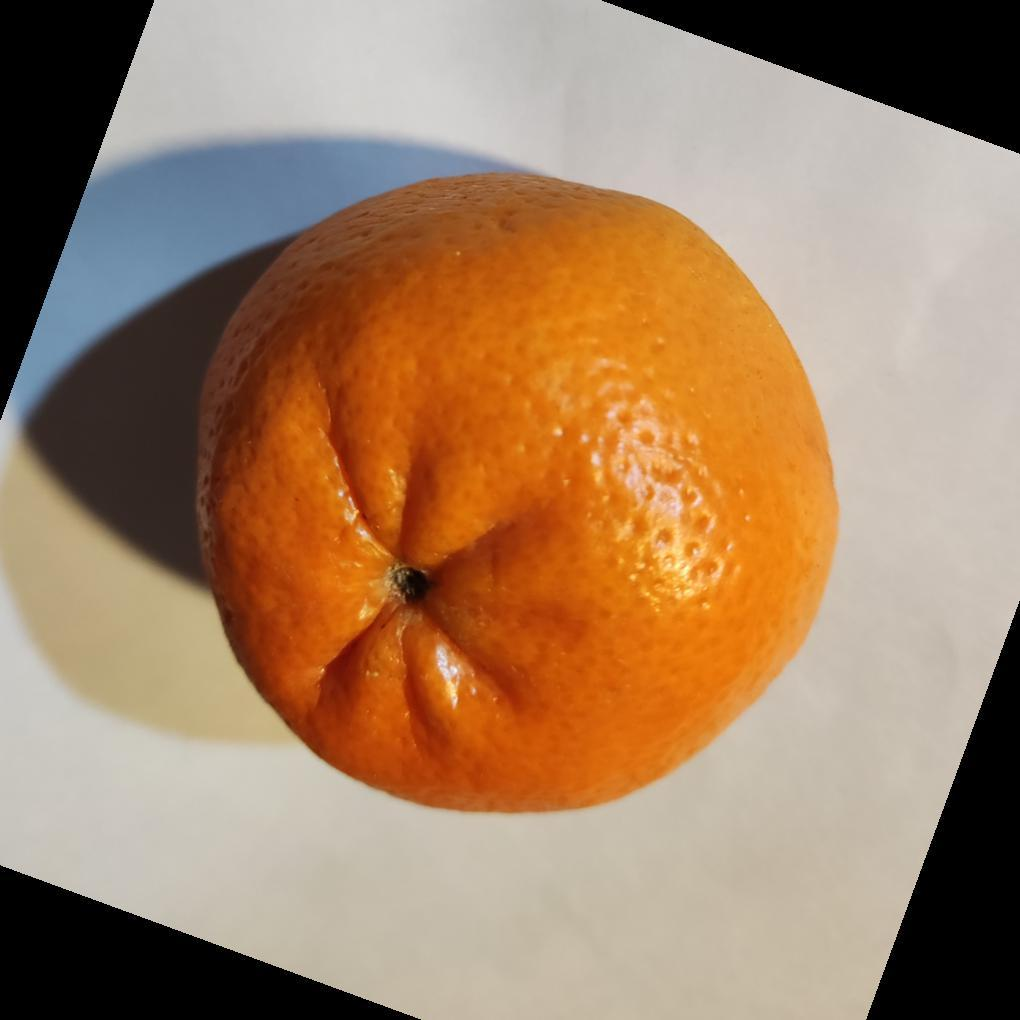FreshGuava: (193, 171, 839, 819)
